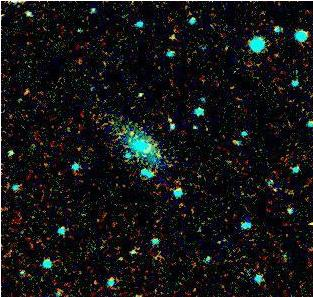star: (10, 77, 40, 107)
